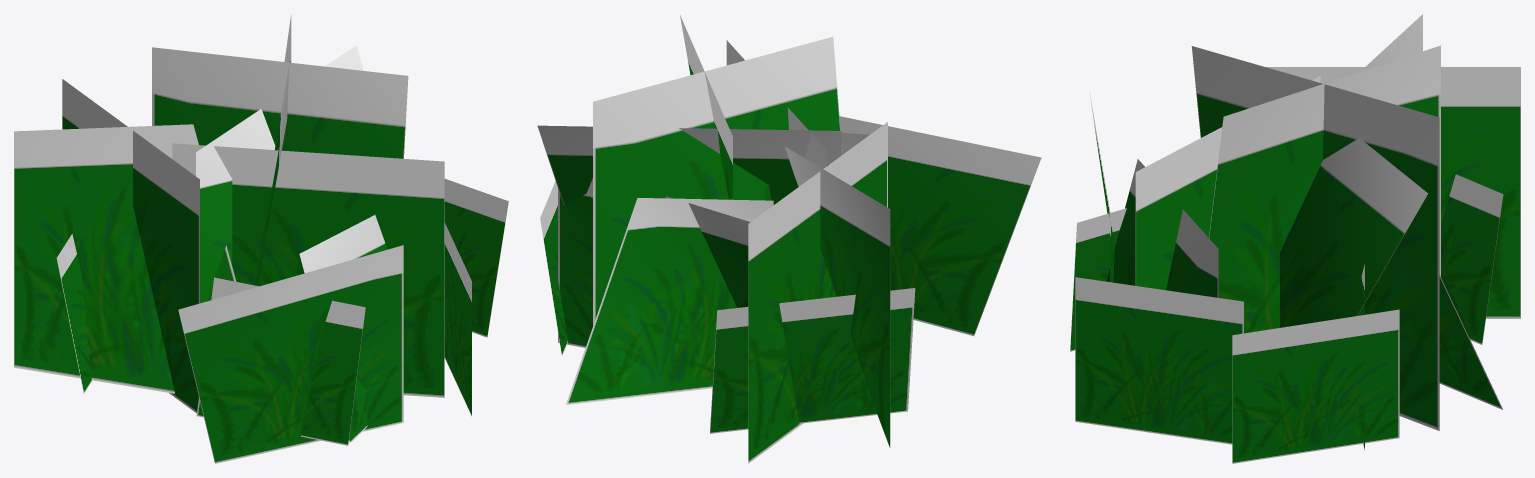
The model's file is gras01.obj.
3 renders of one model, left to right at view 1: azimuth 30°, elevation 25°; view 2: azimuth 150°, elevation 25°; view 3: azimuth 270°, elevation 25°, orthographic. The views are drawn at different scales.
Parts seen in each view (by area): view 1: Duplicate01, Duplicate02, Duplicate03, Duplicate05, Box02, Duplicate04; view 2: Duplicate01, Duplicate02, Duplicate04, Duplicate05, Box02, Duplicate03; view 3: Duplicate01, Duplicate03, Duplicate04, Box02, Duplicate02, Duplicate05.
Part boxes in pixels (x1,y1,x2,y2): Duplicate01: [62, 79, 471, 463]; Duplicate02: [14, 124, 236, 393]; Duplicate03: [152, 47, 508, 337]; Duplicate05: [196, 277, 365, 445]; Box02: [196, 45, 363, 303]; Duplicate04: [255, 14, 387, 442]; Duplicate01: [558, 40, 1041, 463]; Duplicate02: [710, 146, 915, 448]; Duplicate04: [593, 37, 869, 325]; Duplicate05: [566, 198, 773, 404]; Box02: [537, 125, 841, 205]; Duplicate03: [540, 15, 732, 355]; Duplicate01: [1075, 67, 1520, 450]; Duplicate03: [1209, 45, 1440, 463]; Duplicate04: [1106, 46, 1439, 430]; Box02: [1280, 138, 1428, 327]; Duplicate02: [1360, 14, 1503, 344]; Duplicate05: [1070, 208, 1502, 409].
Size of the model in its own units: 47.12 by 33.62 by 42.55.
